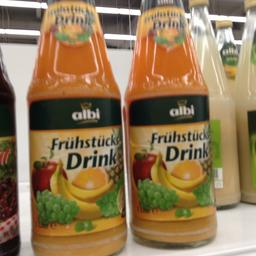juice: (25, 0, 128, 254), (122, 0, 220, 248)
